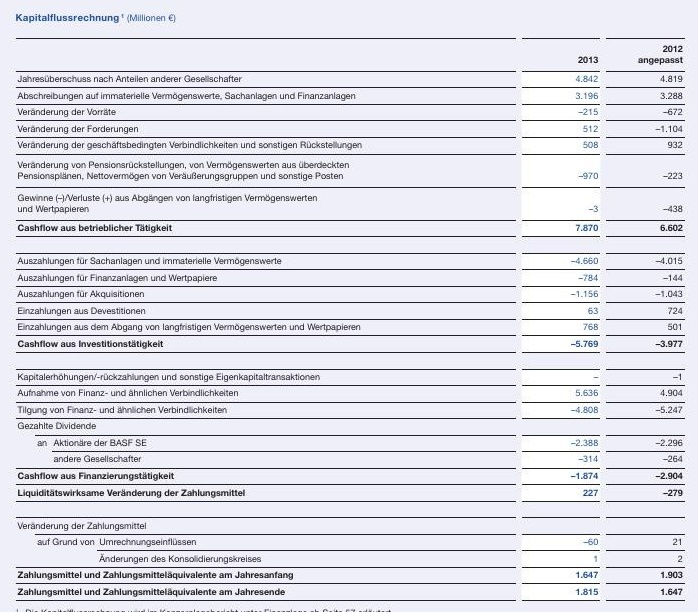table: (0, 0, 698, 612)
